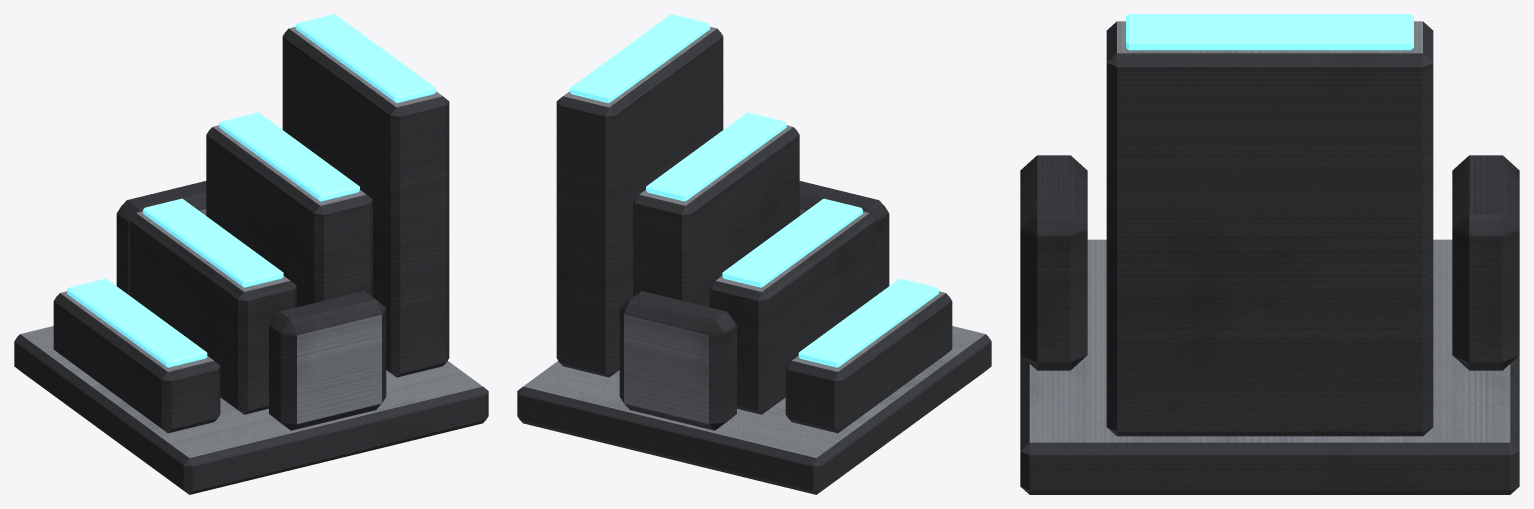
File: R4X_ModuleAmplifier_LOD1.glb
The picture shows the model from 3 angles, left to right: view 1: azimuth 30°, elevation 25°; view 2: azimuth 150°, elevation 25°; view 3: azimuth 270°, elevation 25°; orthographic projection. The views are drawn at different scales.
Visible parts, largest first — view 1: R4X_ModuleAmplifier_LOD1; view 2: R4X_ModuleAmplifier_LOD1; view 3: R4X_ModuleAmplifier_LOD1.
Boxes of the visible parts, bbox=[...] form: R4X_ModuleAmplifier_LOD1: bbox=[14, 14, 488, 494]; R4X_ModuleAmplifier_LOD1: bbox=[517, 14, 991, 494]; R4X_ModuleAmplifier_LOD1: bbox=[1020, 14, 1519, 494].
Size of the model in its own units: 0.52 by 0.512 by 0.52.
Materials: 3 (2 with a texture image).
